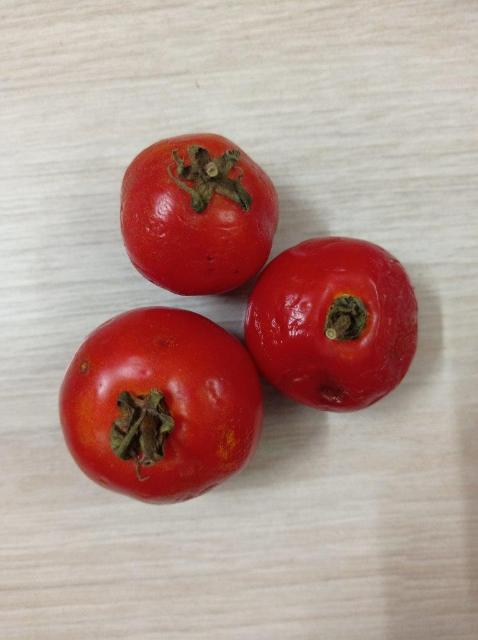defect: (58, 304, 269, 509), (244, 234, 426, 415), (117, 128, 279, 299)
